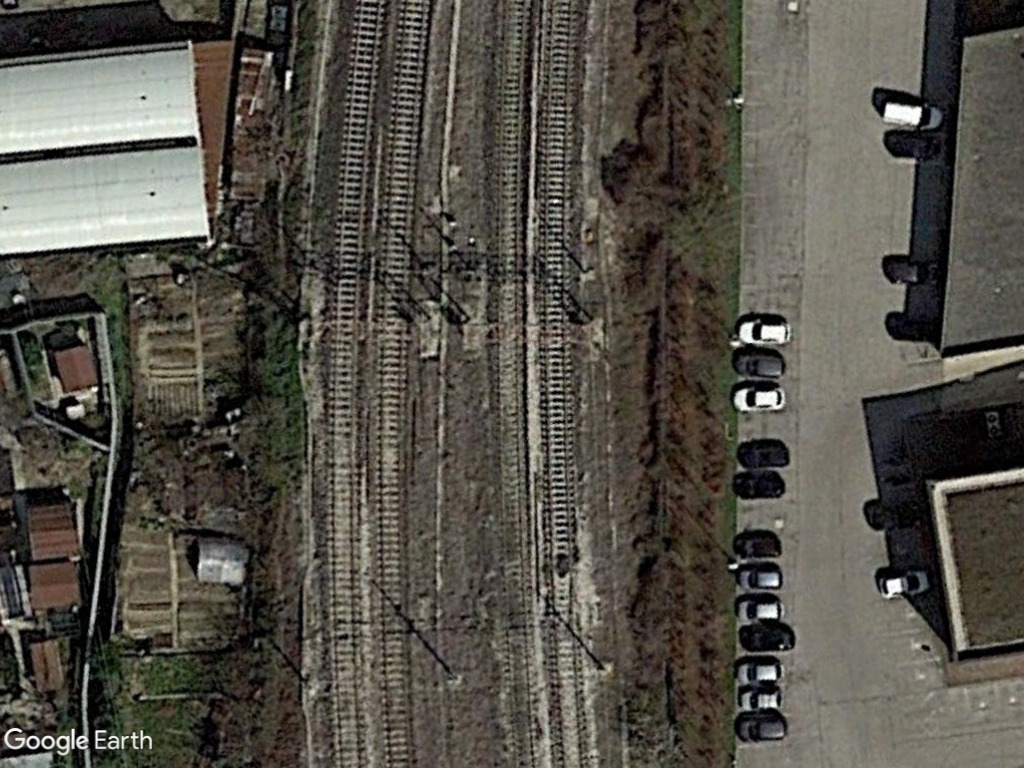car: (735, 313, 797, 349), (729, 380, 791, 416), (875, 566, 933, 601), (730, 713, 790, 745), (730, 562, 787, 591), (732, 655, 785, 686), (732, 353, 791, 380), (734, 687, 787, 713), (736, 597, 785, 625)
other: (883, 254, 944, 289), (735, 442, 792, 472), (736, 624, 797, 652), (730, 528, 784, 559), (730, 470, 788, 496)
van: (878, 95, 946, 132)
